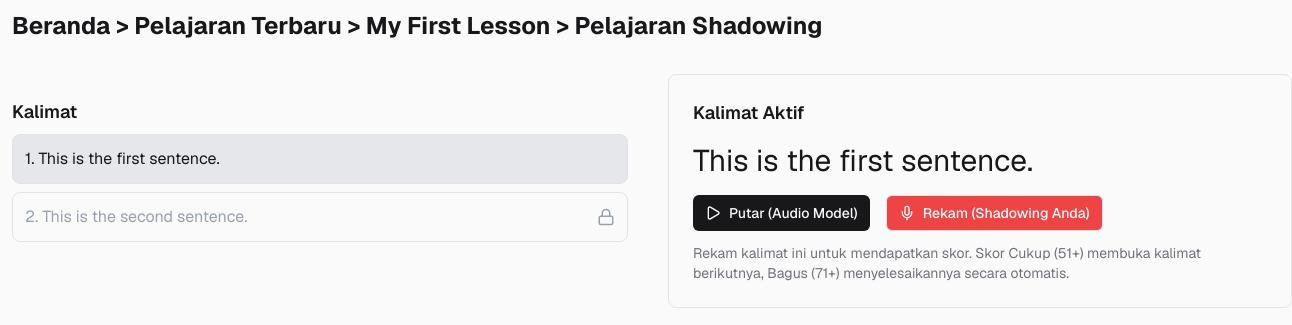
Test: LessonPlayer › auto-completes and advances when a fresh recording scores Bagus
Step 1. Click the button "Rekam (Shadowing Anda)" → (994, 213), box [886,195,1103,231]
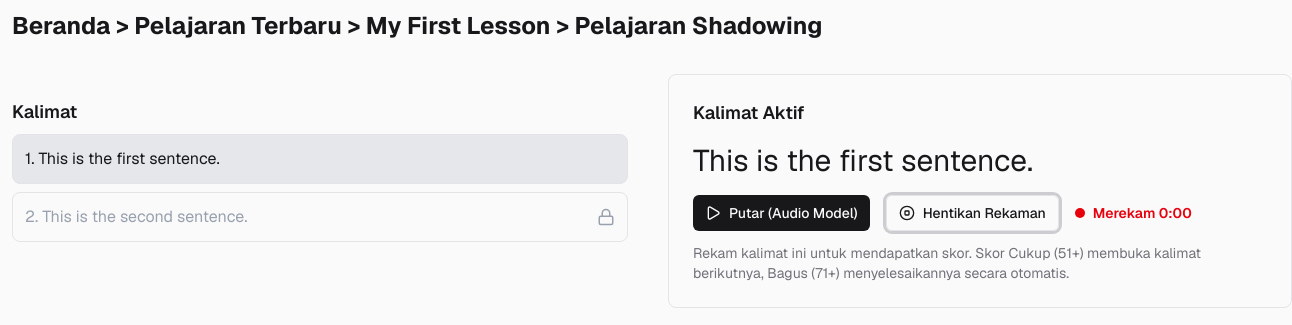
Step 2. Click the button "Hentikan Rekaman" → (972, 213), box [886,195,1059,231]
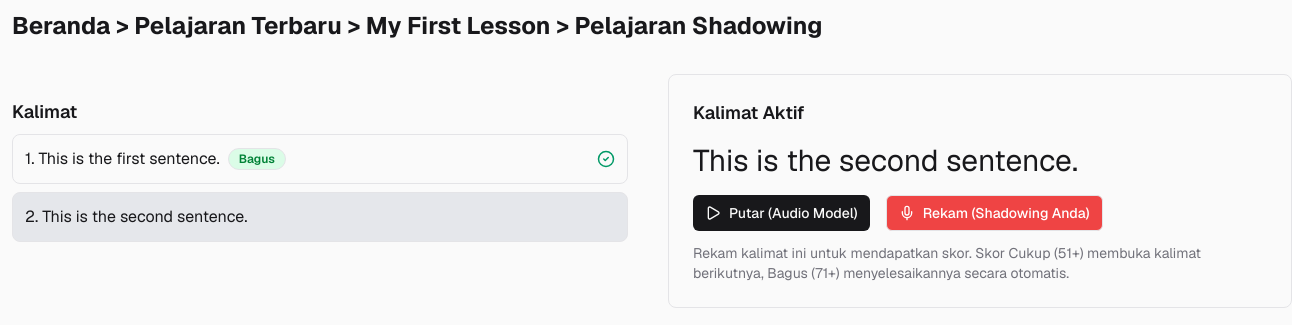
Expected: the picture named "Selesai" is shown, [597,150,615,168]
